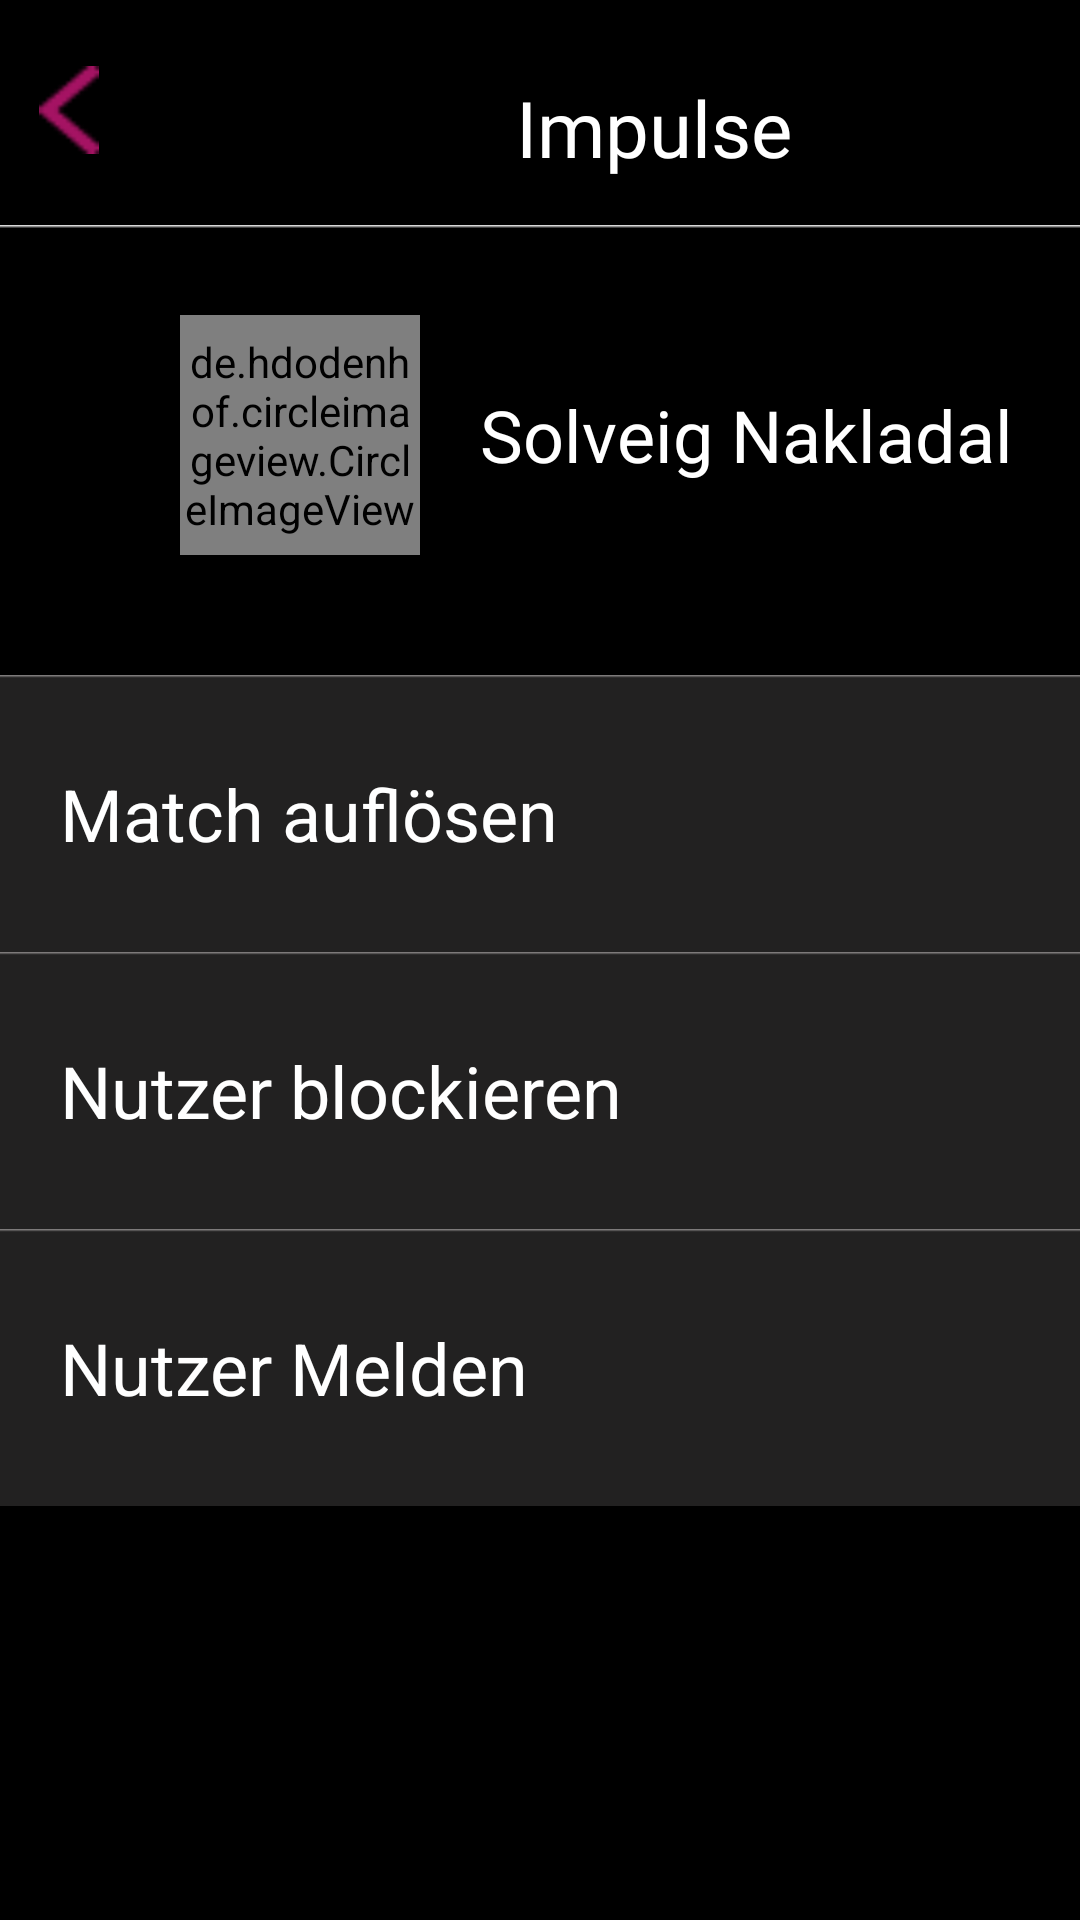

Icon click points for this 1080 x 1920 phone screenshot, format (x,y):
zurueck: (69,110)
